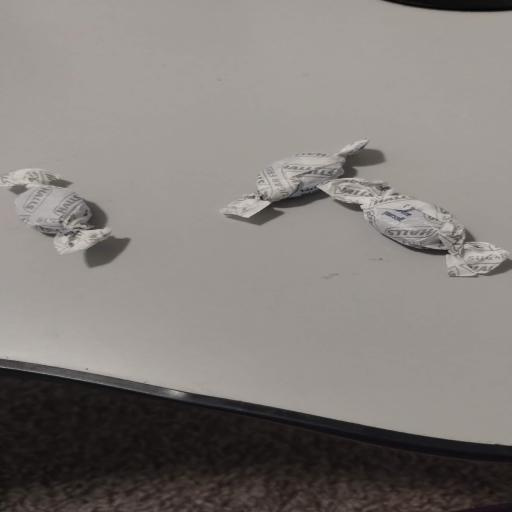chocolate: (318, 179, 508, 276), (220, 139, 368, 217), (0, 169, 110, 253)
